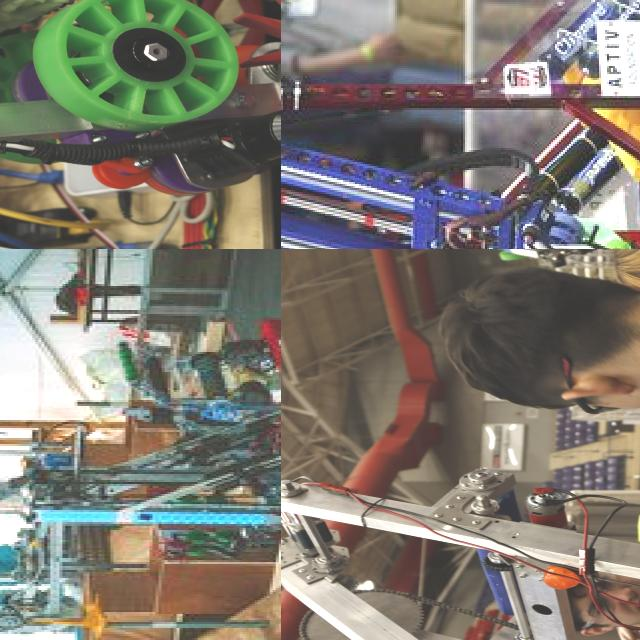FRC-Robots: (281, 0, 640, 249), (0, 0, 281, 249), (281, 480, 640, 640), (22, 373, 281, 579), (74, 308, 281, 449)
